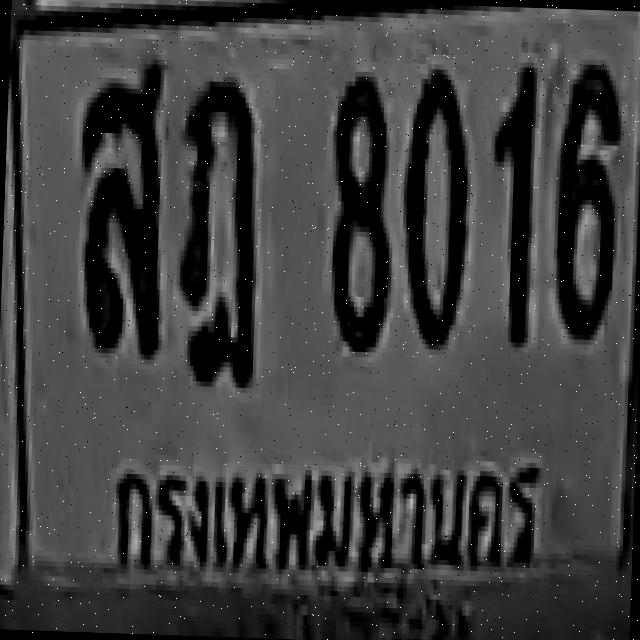0: (398, 65, 471, 348)
1: (484, 66, 537, 347)
23DorChaDa: (171, 75, 261, 383)
49SorSuea: (74, 56, 168, 354)
6: (551, 58, 623, 340)
8: (326, 70, 395, 352)
Bangkok: (88, 413, 558, 603)
